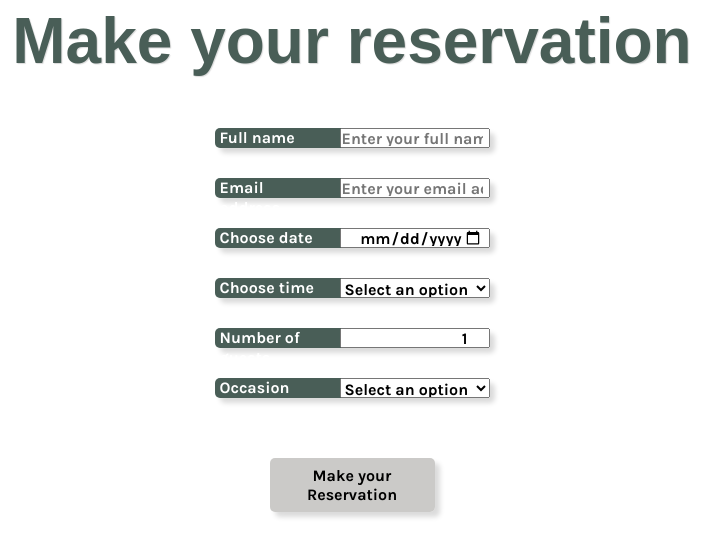
Test: BookingForm Component › does not submit the form with invalid name
Invalid full name
Type "Jo" into the field labelled "Full name". click: (414, 138)
box: [340,128,490,148]
Type "john.doe@example.com" into the field labelled "Email address". click: (414, 188)
box: [340,178,490,198]
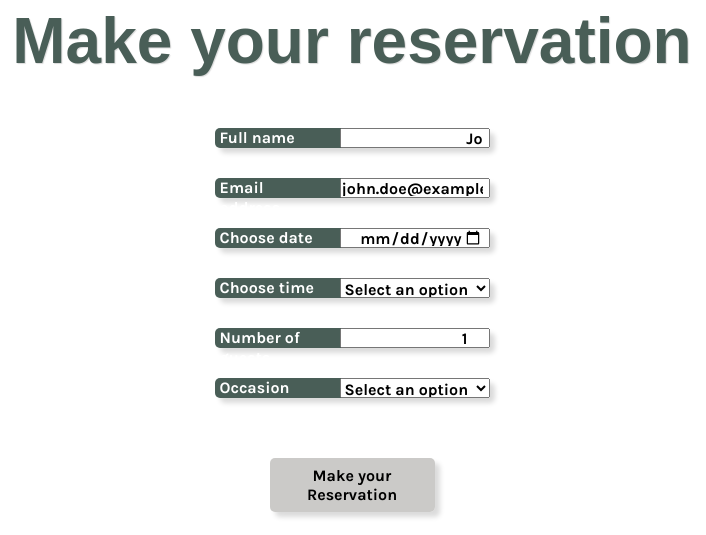
Type "2023-12-31" into the date field labelled "Choose date". click: (414, 238)
box: [340,228,490,248]
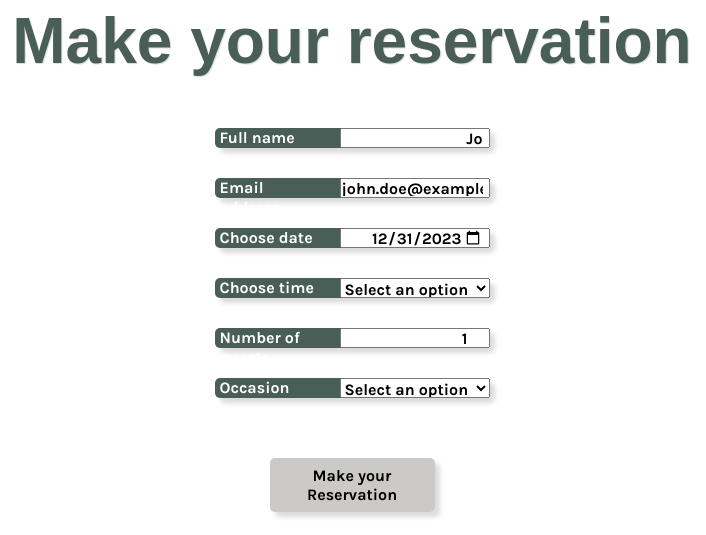
Select "18:00" in the dropdown labelled "Choose time". click: (414, 288)
box: [340,278,490,298]
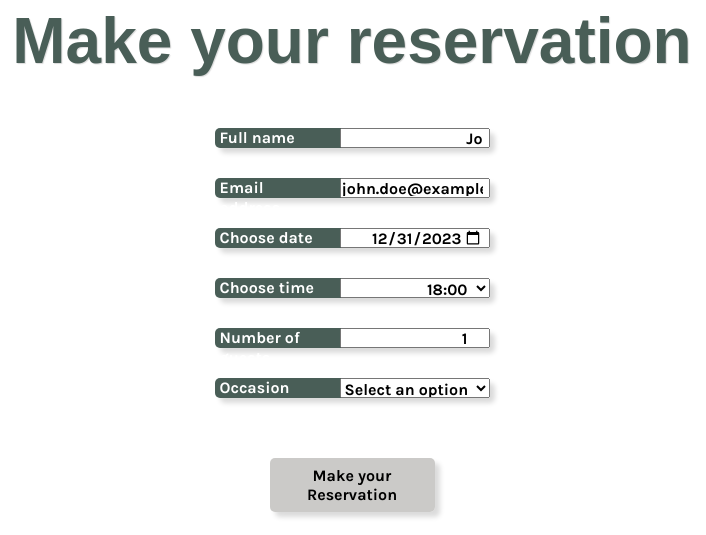
Type "4" into the number field labelled "Number of guests". click: (414, 338)
box: [340,328,490,348]
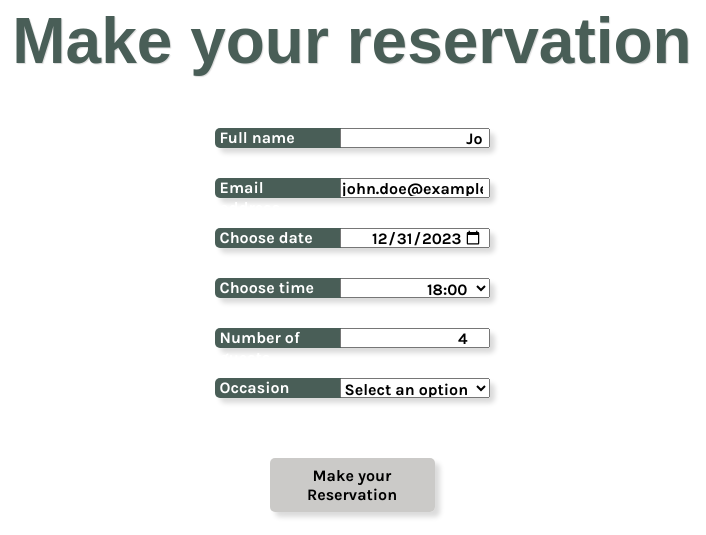
Select "Birthday" in the dropdown labelled "Occasion". click: (414, 388)
box: [340,378,490,398]
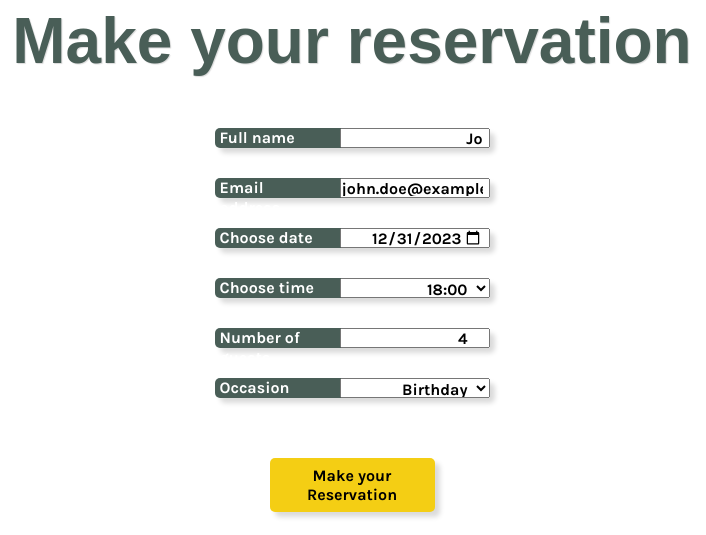
Click the button "Make your Reservation". click: (352, 485)
box: [270,458,434,512]
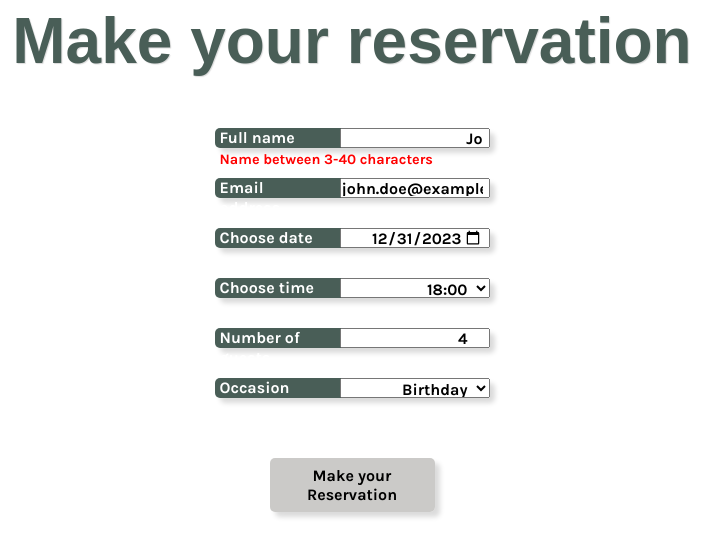
Expected: the button "Make your Reservation" is disabled, [270,458,434,512]
